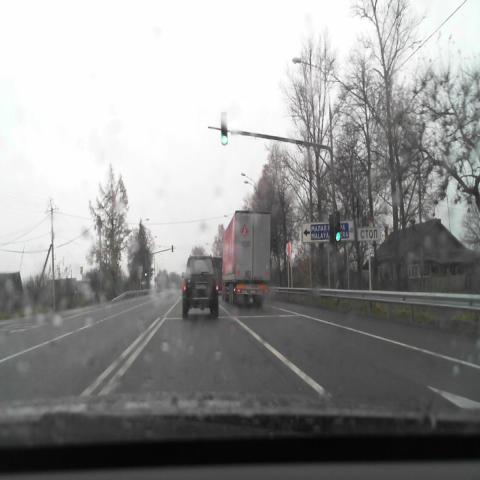6_16: (357, 228, 381, 241)
